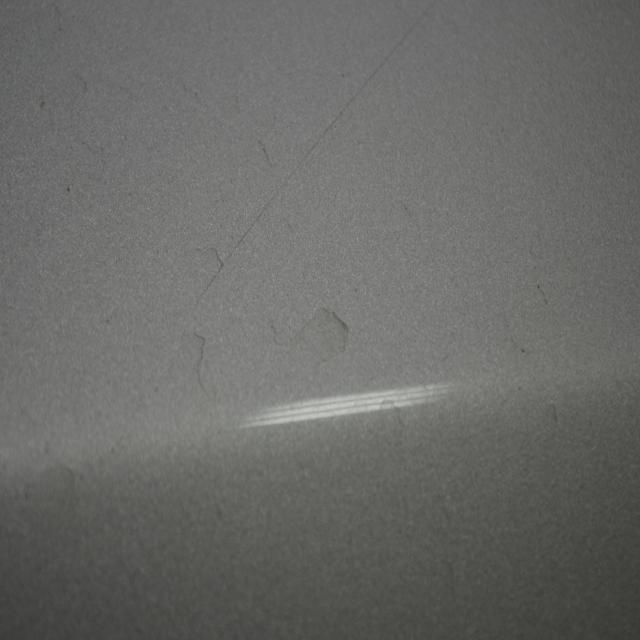dirt: (37, 98, 46, 110), (66, 183, 72, 193)
scratch: (163, 0, 438, 385)
water marks: (298, 302, 350, 373), (176, 319, 209, 399), (376, 394, 408, 453), (192, 238, 226, 286), (540, 397, 561, 430)
